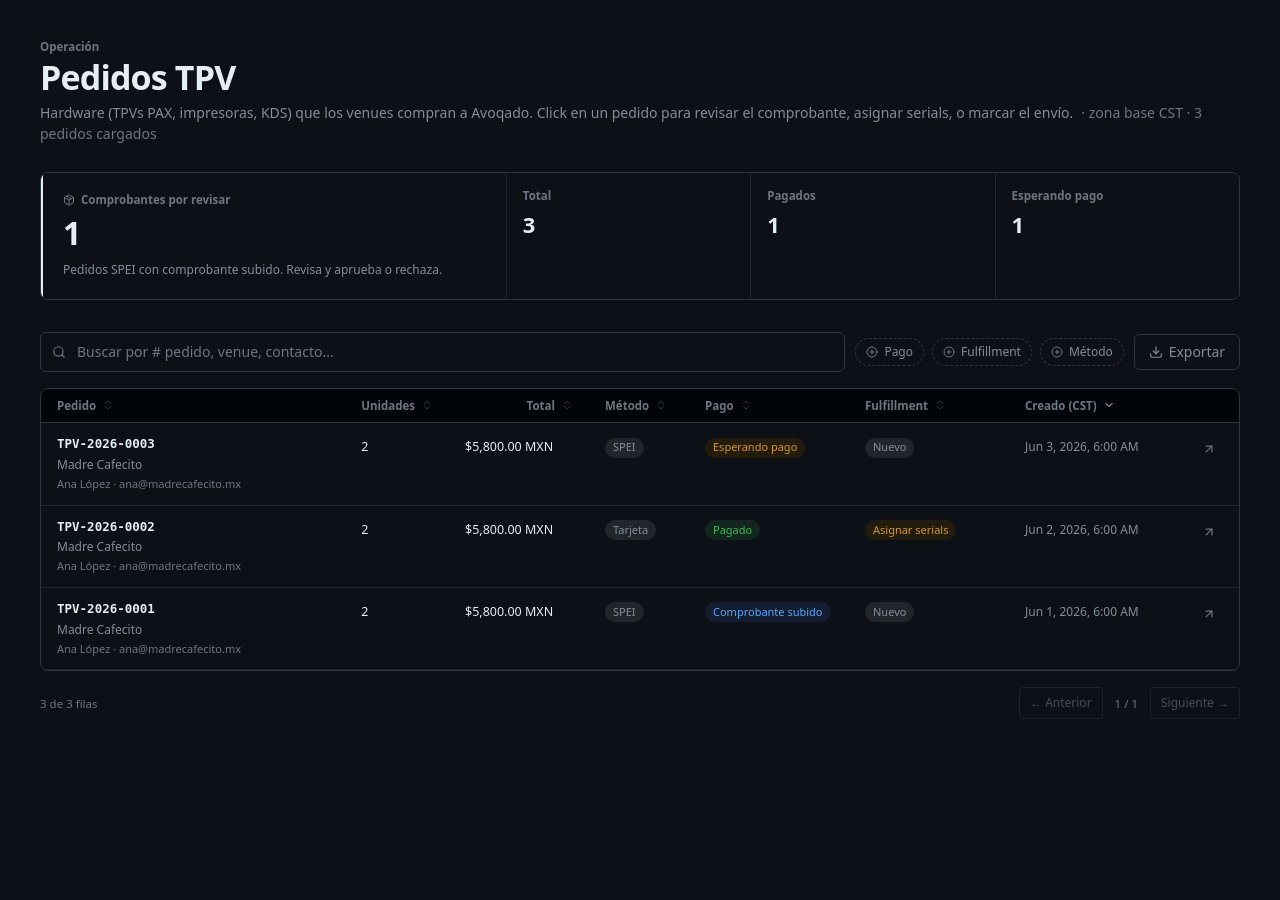
Test: <TpvOrdersPage /> › filtra por estado de pago y limpia con "Borrar filtros"
Expected: the text "TPV-2026-0001" is shown, [57,601,155,616]
Click the 1st button "Pago": point(890, 352) [855,338,924,366]
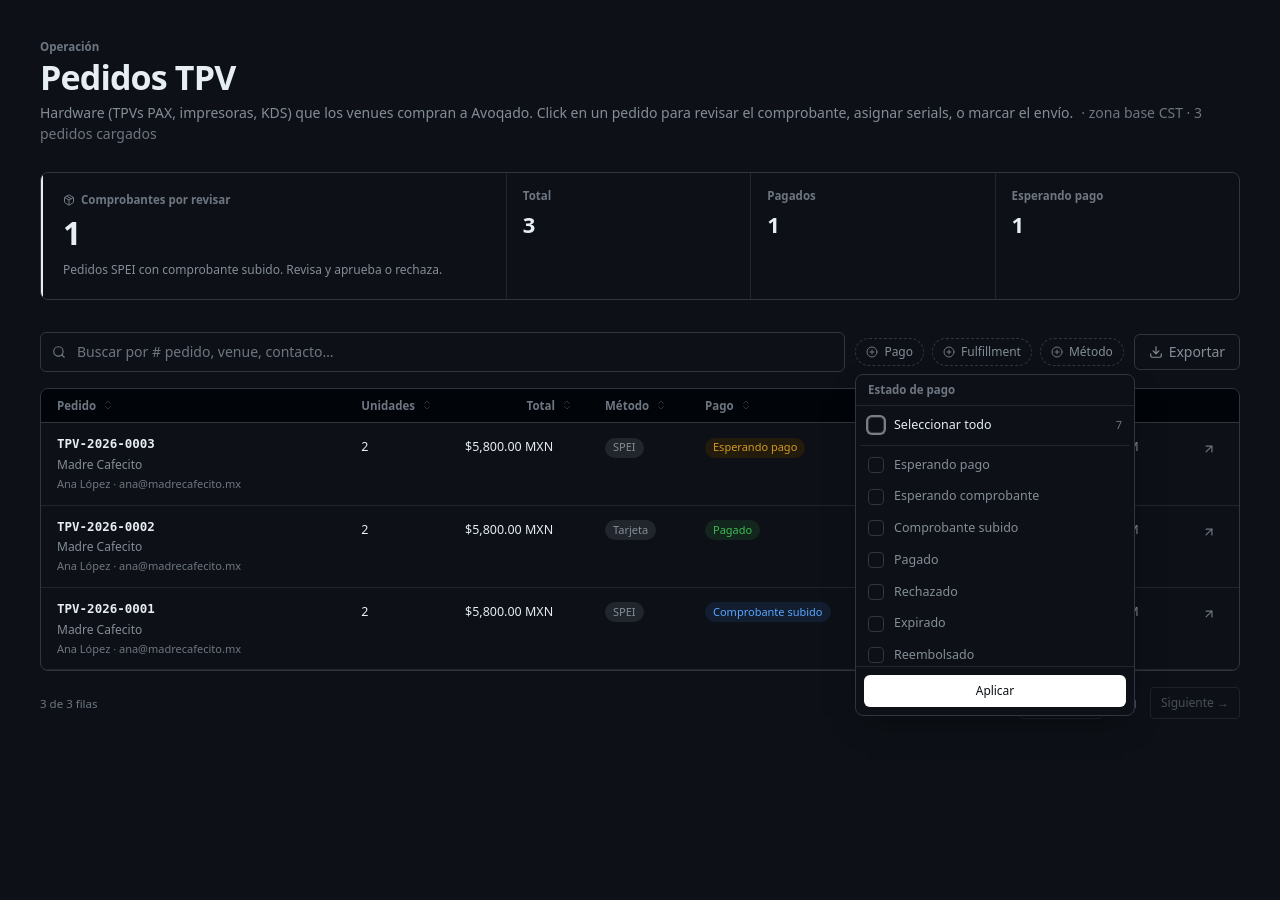
Click the text "Pagado" below "Esperando comprobante": point(916, 559) [894,551,938,568]
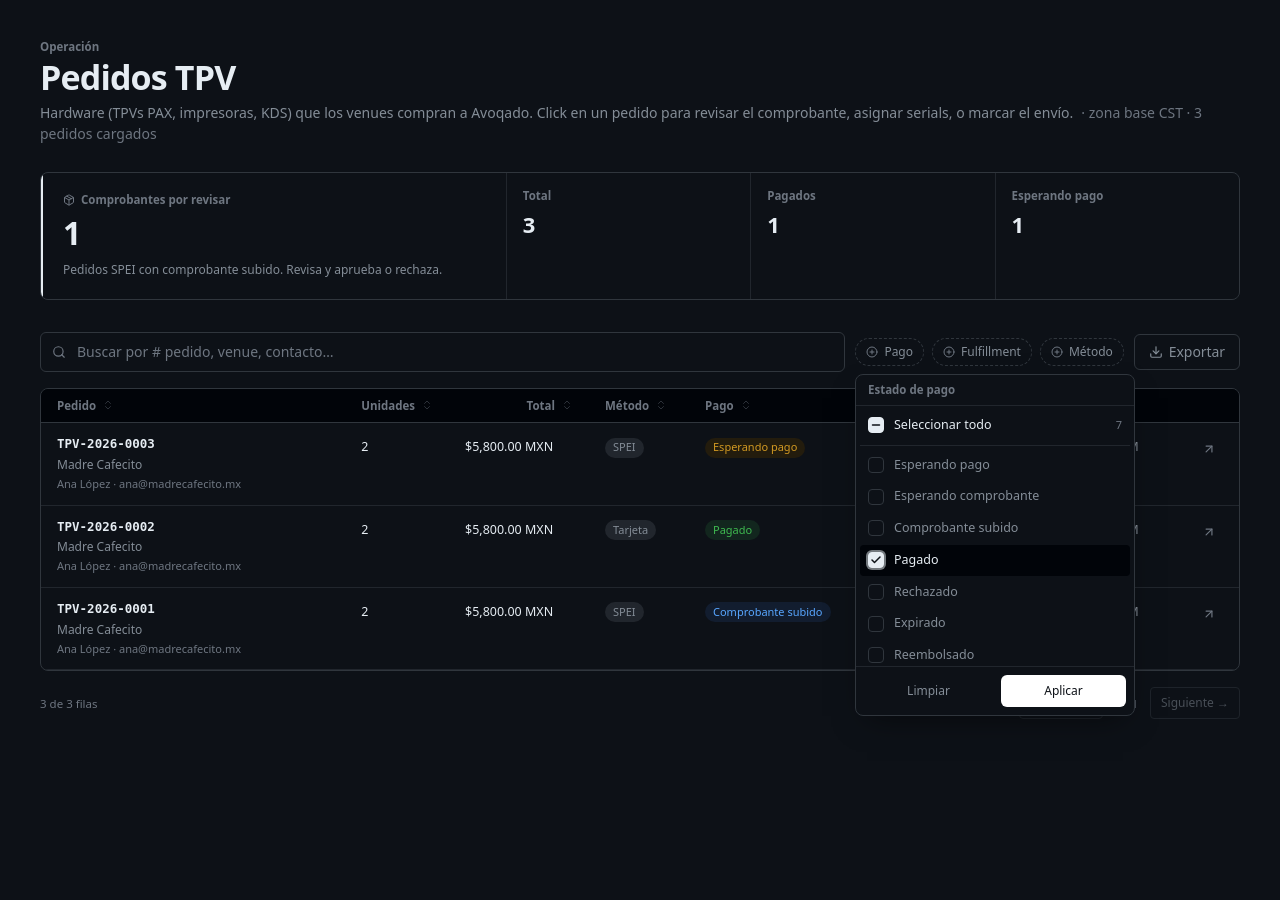
Click the button "Aplicar": point(1064, 691) [1001,675,1126,707]
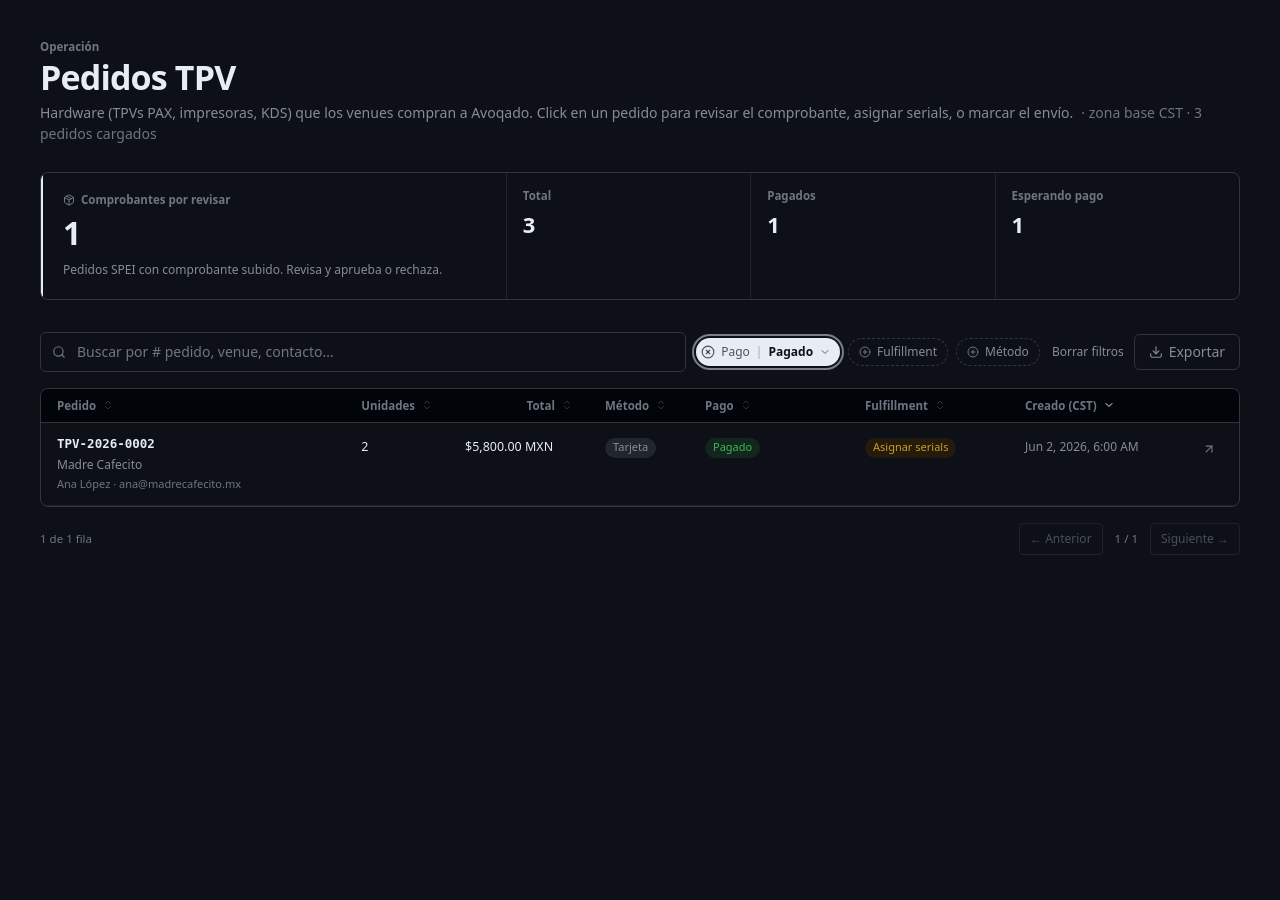
Expected: the link "TPV-2026-0001" is gone
Expected: the text "TPV-2026-0002" is shown, [57,436,155,451]
Expected: the link "TPV-2026-0003" is gone
Click the button "Borrar filtros": point(1088, 352) [1052,343,1124,361]
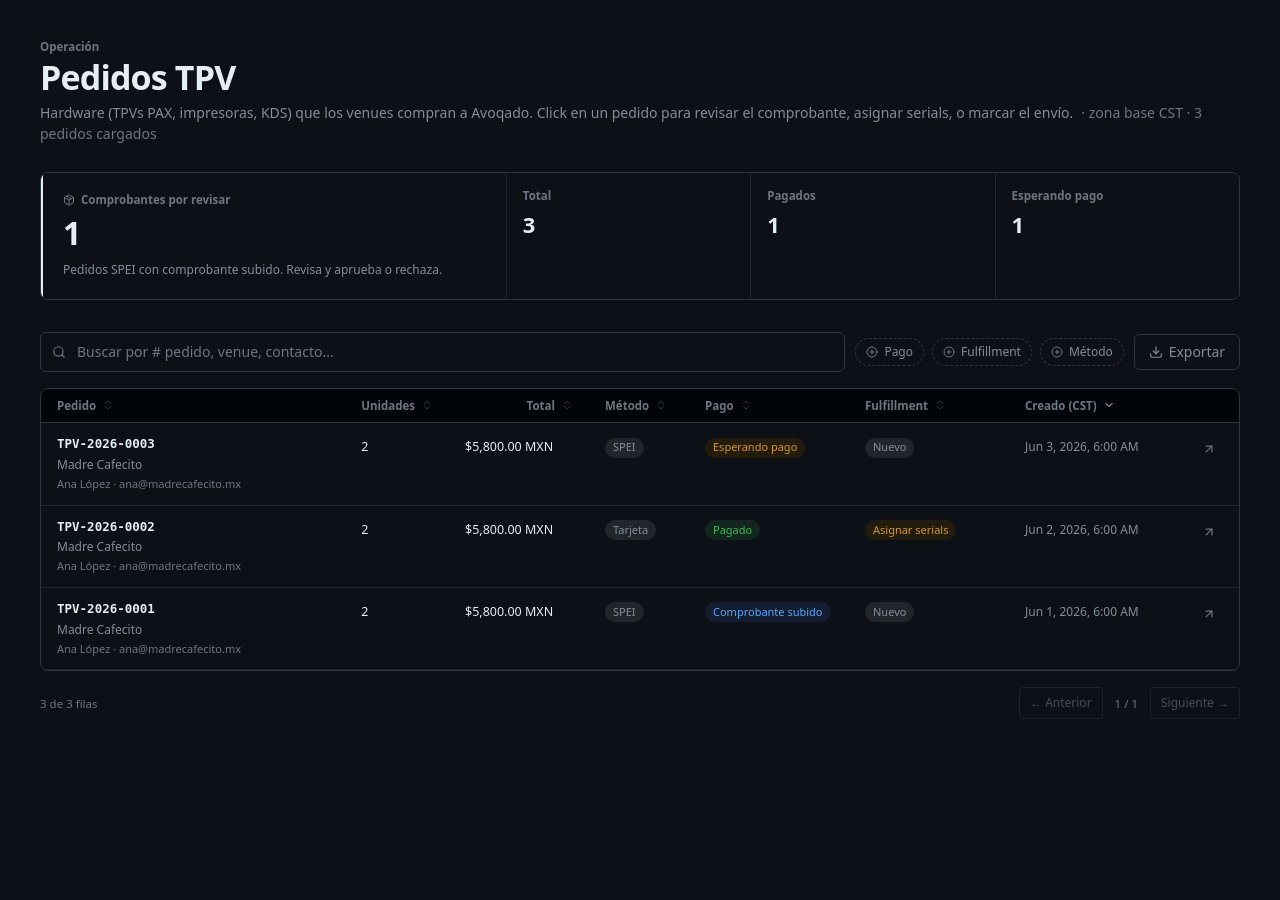
Expected: the text "TPV-2026-0001" is shown, [57,601,155,616]
Expected: the text "TPV-2026-0003" is shown, [57,436,155,451]
